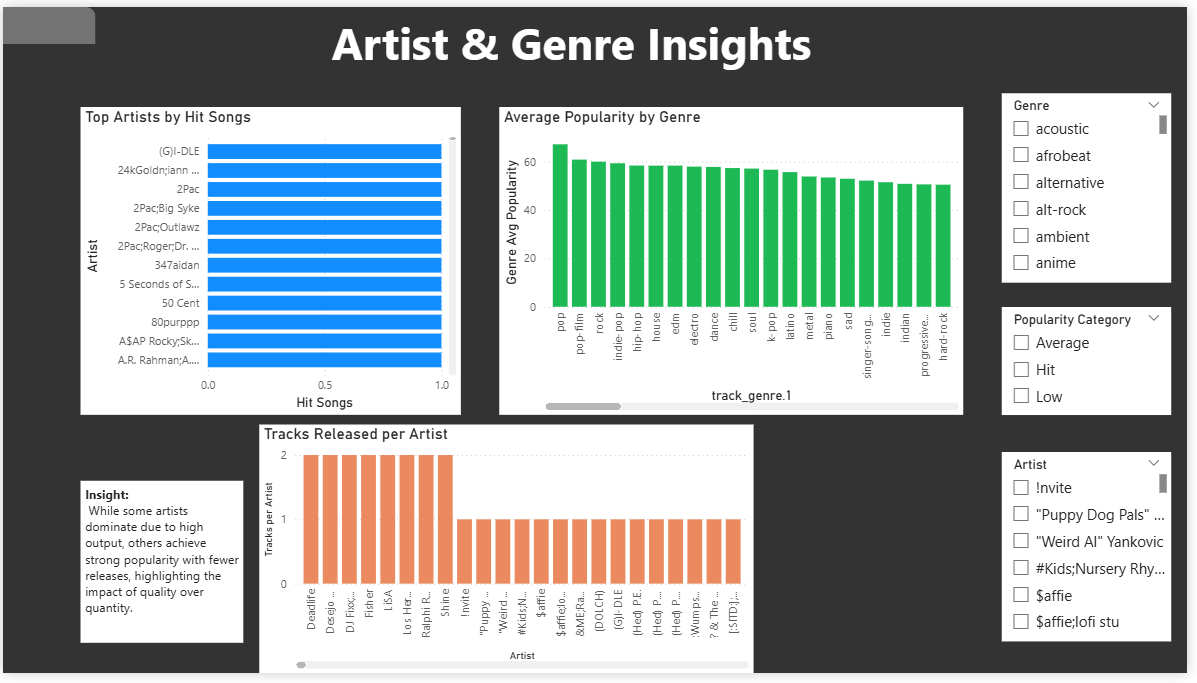

What the dashboard file says about the page in this screenshot:
{"tool":"powerbi","page":{"name":"Artist & Genre Insights","canvas":[1280,720],"ordinal":1},"visuals":[{"type":"textbox","box":[330.6,0,567,92.9],"z":0},{"type":"clusteredBarChart","title":"Top Artists by Hit Songs","fields":{"Category":["Spotify_Tracks.Artist"],"Y":["Spotify_Tracks.Hit Songs"]},"box":[84.5,108.6,411.4,333],"z":1000},{"type":"clusteredColumnChart","title":"Average Popularity by Genre","fields":{"Category":["Spotify_Tracks.track_genre.1"],"Y":["Spotify_Tracks.Genre Avg Popularity"]},"box":[536.9,108.6,501.9,333],"z":2000},{"type":"clusteredColumnChart","title":"Tracks Released per Artist","fields":{"Category":["Spotify_Tracks.Artist"],"Y":["Spotify_Tracks.Tracks per Artist"]},"box":[277.5,451.2,534.5,269],"z":3000},{"type":"slicer","fields":{"Values":["Spotify_Tracks.track_genre.1"]},"box":[1079.8,92.9,183.4,205.1],"z":4000},{"type":"slicer","fields":{"Values":["Spotify_Tracks.Popularity Category"]},"box":[1079.8,324.5,183.4,117],"z":5000},{"type":"slicer","fields":{"Values":["Spotify_Tracks.Artist"]},"box":[1079.8,481.4,183.4,205.1],"z":6000},{"type":"textbox","box":[84.5,511.5,176.1,174.9],"z":7000},{"type":"actionButton","title":"insights","box":[0,0,100,40],"z":8000}]}

Visuals, with their boxes in screenshot pixels (x1, y1, x2, y2), scaled from the page's 1280x720 canvas onto the 1197x683 screenshot:
textbox: 309,0,839,88
"Top Artists by Hit Songs" clusteredBarChart: 79,103,464,419
"Average Popularity by Genre" clusteredColumnChart: 502,103,971,419
"Tracks Released per Artist" clusteredColumnChart: 260,428,759,682
slicer - Spotify_Tracks.track_genre.1: 1010,88,1181,283
slicer - Spotify_Tracks.Popularity Category: 1010,308,1181,419
slicer - Spotify_Tracks.Artist: 1010,457,1181,651
textbox: 79,485,244,651
"insights" actionButton: 0,0,94,38
